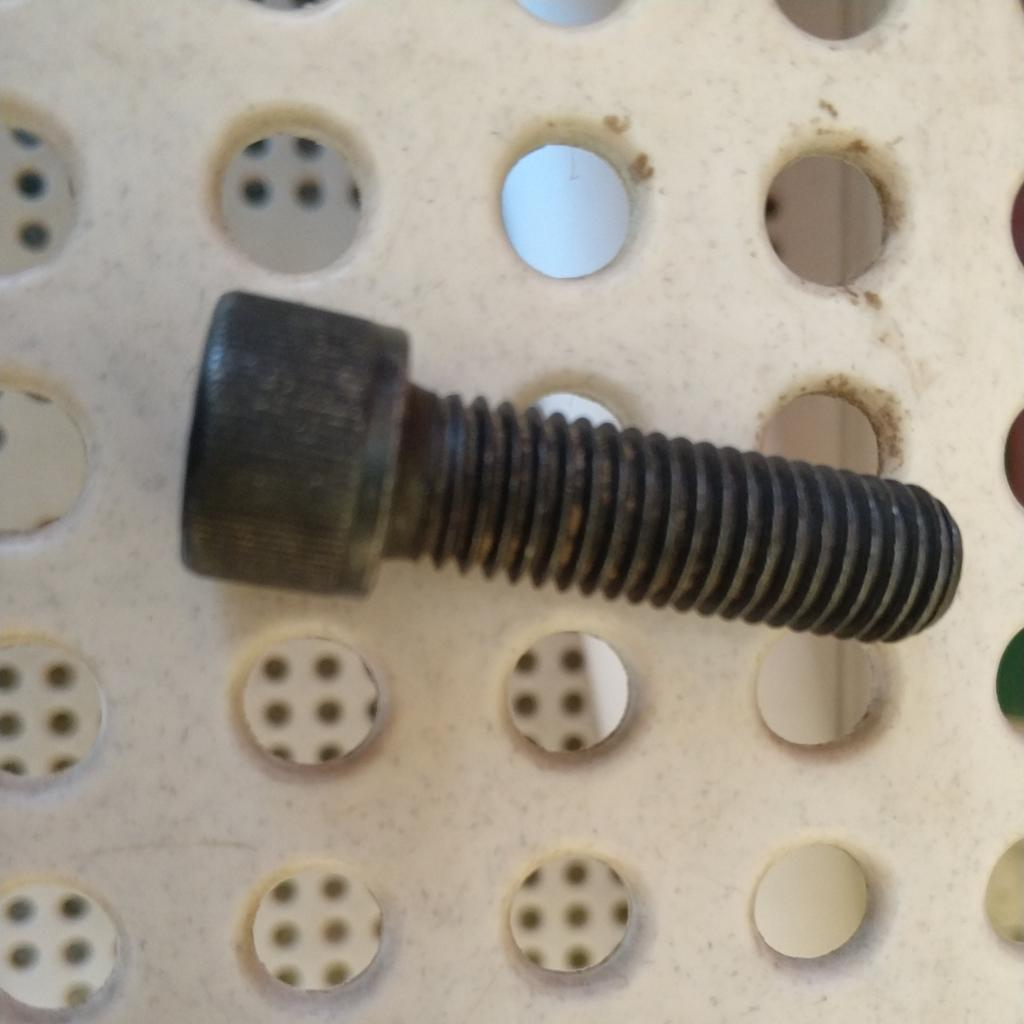screwtype1black: (166, 278, 970, 680)
